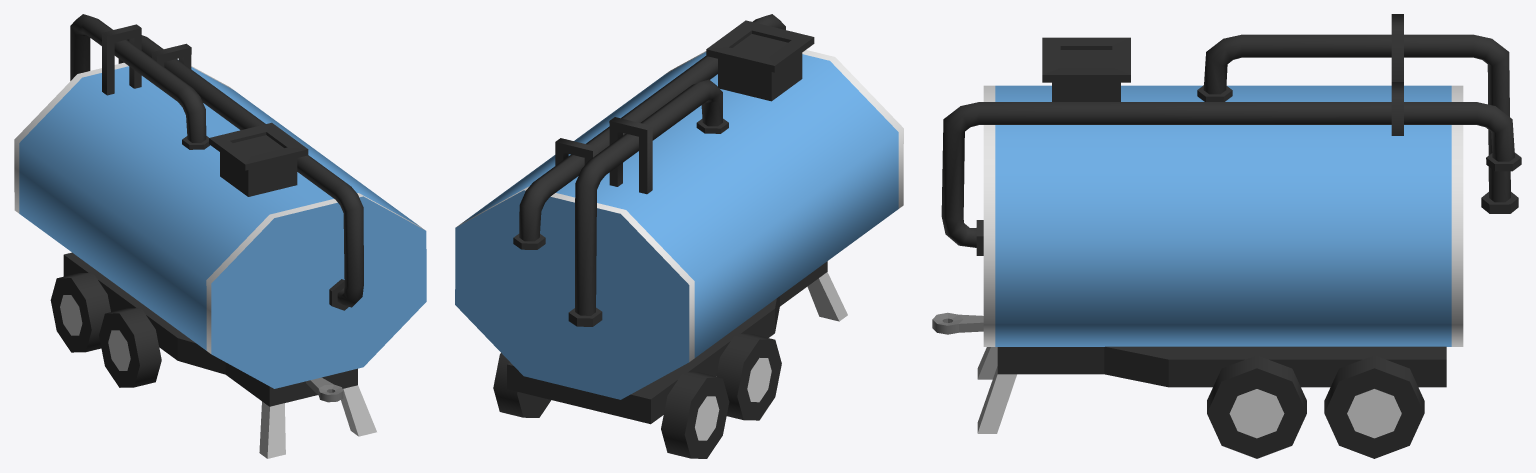
The model's file is water_tank.FBX.
The picture shows the model from 3 angles, left to right: view 1: azimuth 30°, elevation 25°; view 2: azimuth 150°, elevation 25°; view 3: azimuth 270°, elevation 25°; orthographic projection. The views are drawn at different scales.
Visible parts, largest first — view 1: Water_tank; view 2: Water_tank; view 3: Water_tank.
Boxes of the visible parts, box(x1,y1,x2,y2) form: Water_tank: box(14, 14, 426, 458); Water_tank: box(455, 14, 903, 458); Water_tank: box(932, 14, 1521, 458).
Bounding box in the file's own units: 2.08 × 2.77 × 4.04.
1 material, 1 textured.
